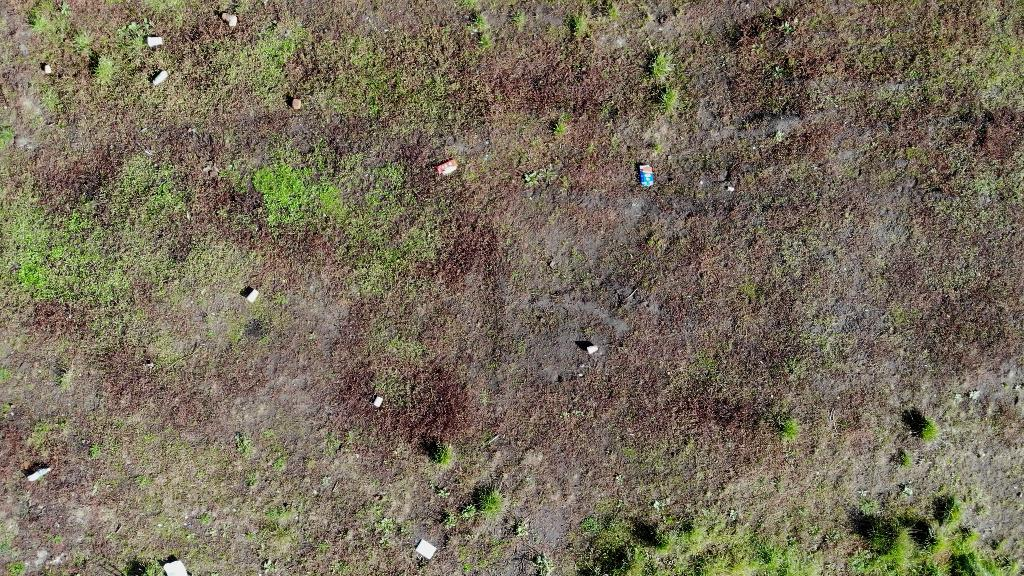garbage: (20, 461, 52, 487), (634, 161, 658, 191), (148, 64, 171, 90), (434, 155, 458, 179), (414, 539, 438, 560), (218, 8, 238, 32), (162, 560, 190, 576), (244, 286, 262, 307), (26, 468, 51, 483), (143, 32, 165, 49), (639, 164, 654, 188), (435, 159, 458, 174), (151, 69, 169, 85), (245, 288, 260, 304), (220, 13, 237, 27), (147, 37, 165, 49), (487, 433, 502, 446), (290, 98, 301, 110), (373, 396, 384, 407), (587, 345, 599, 355), (43, 64, 53, 74), (727, 186, 736, 192), (701, 181, 704, 185)
